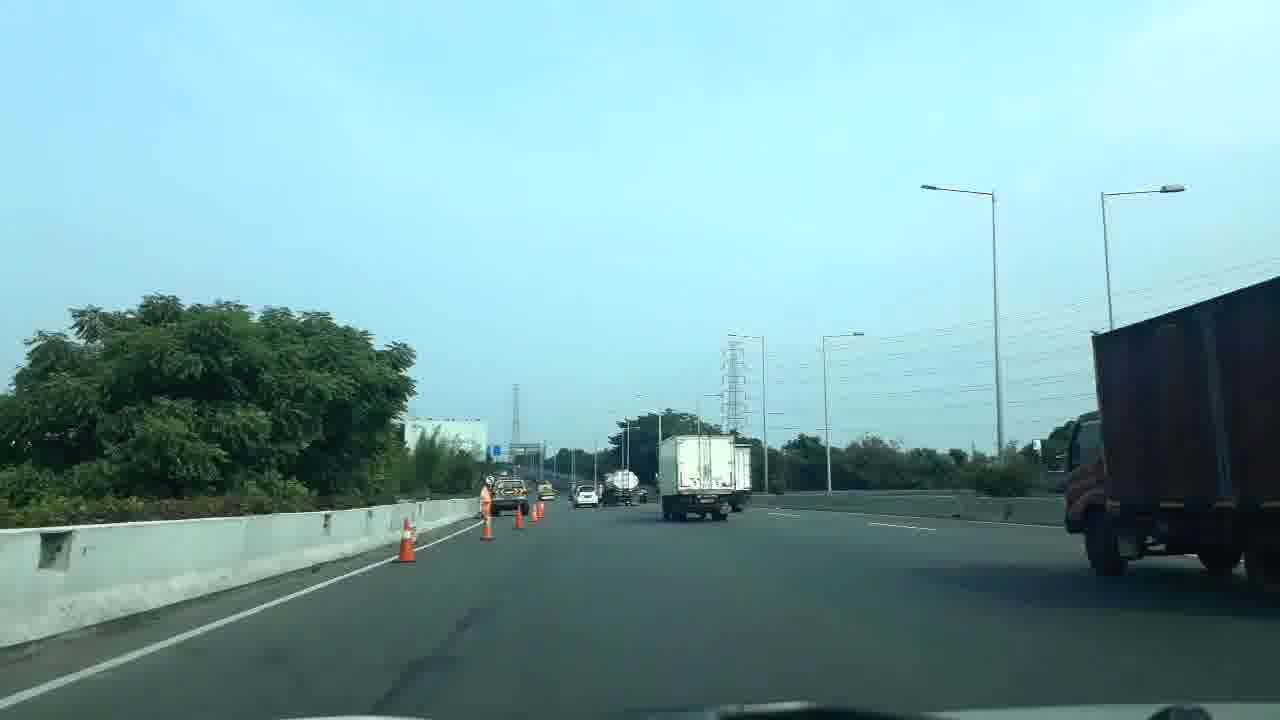plate_positive: (698, 498, 716, 504)
